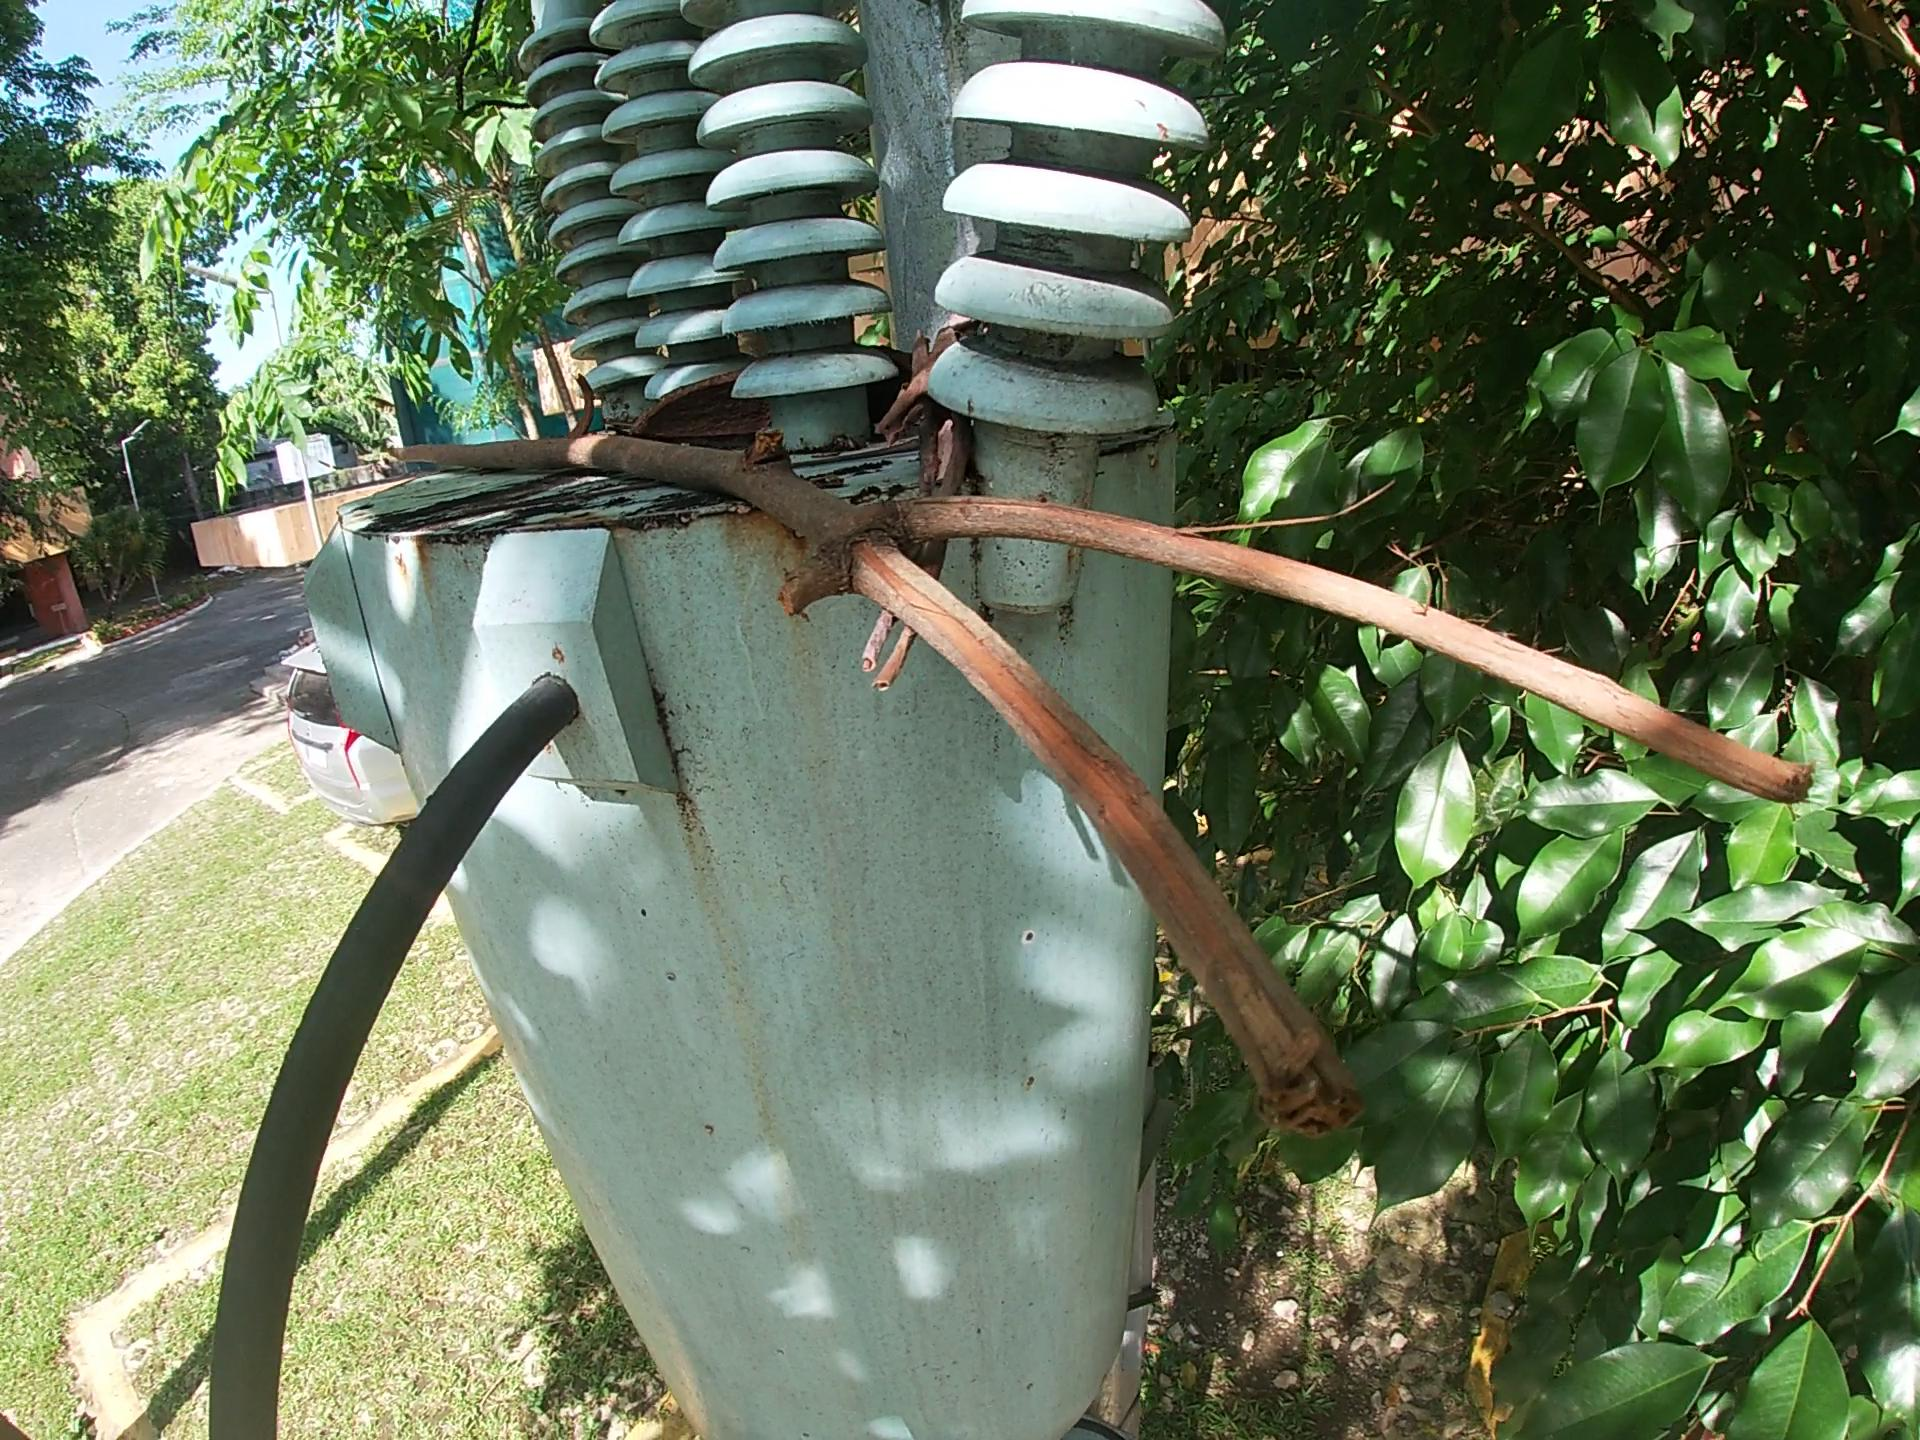mahogany fruit: (630, 342, 919, 448), (561, 371, 605, 445)
tree branch: (367, 417, 1828, 1148), (847, 313, 987, 706)
